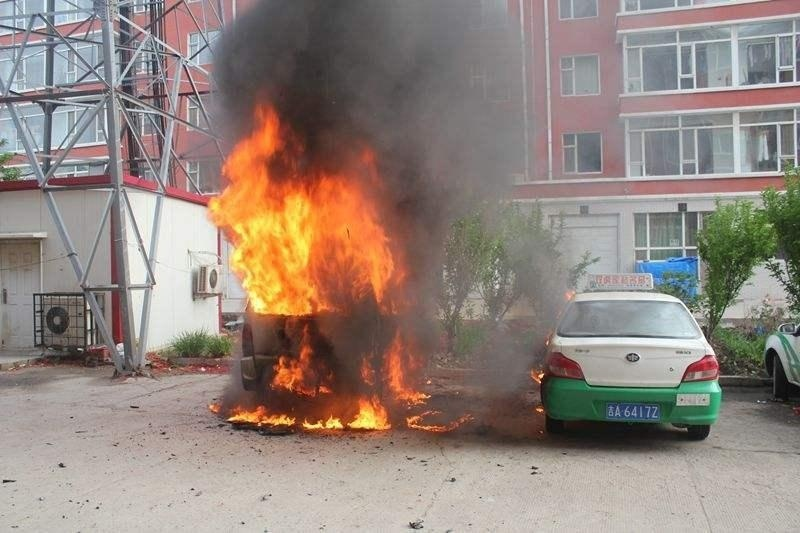fire: (211, 101, 455, 442)
